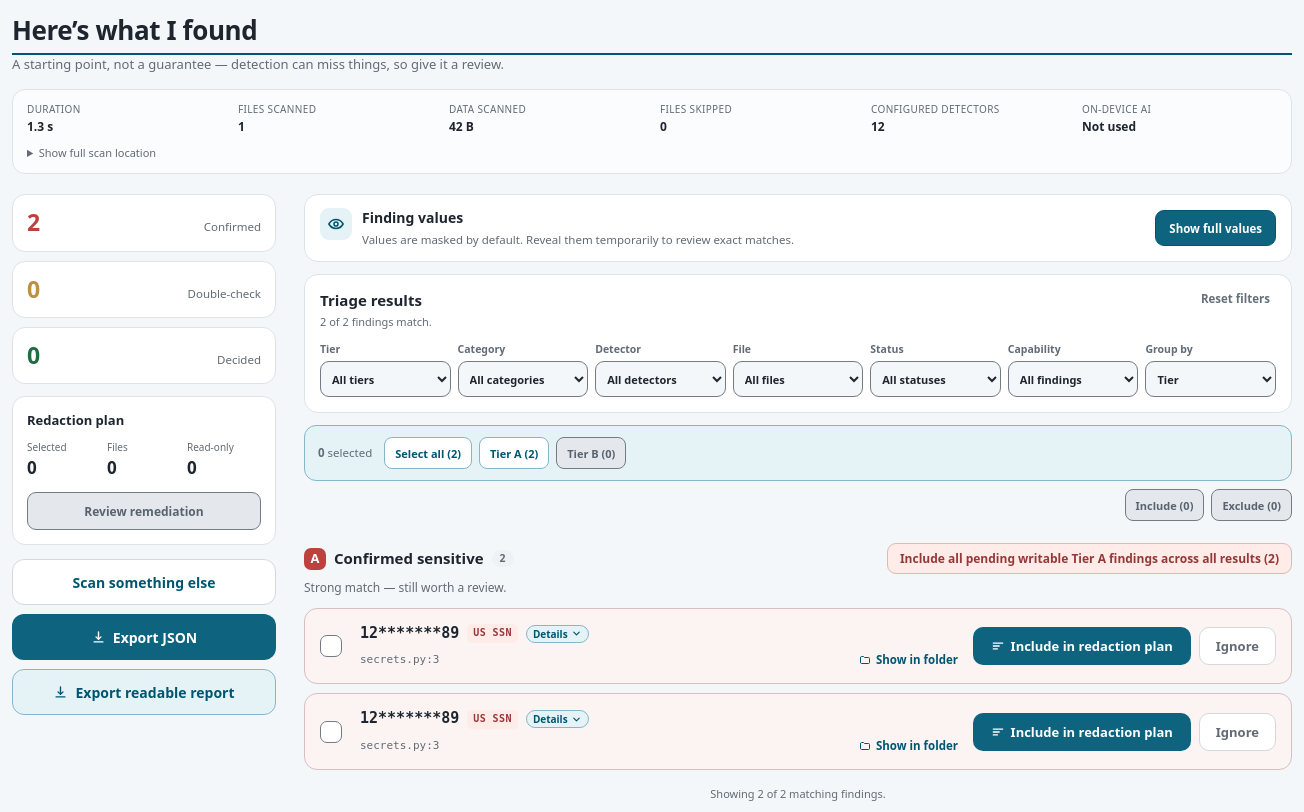
it: ResultsScreen › resets active triage filters with user-facing selection language
Select "Credentials" in the dropdown labelled "Category" at coordinates (523, 379), box [458,361,588,397]
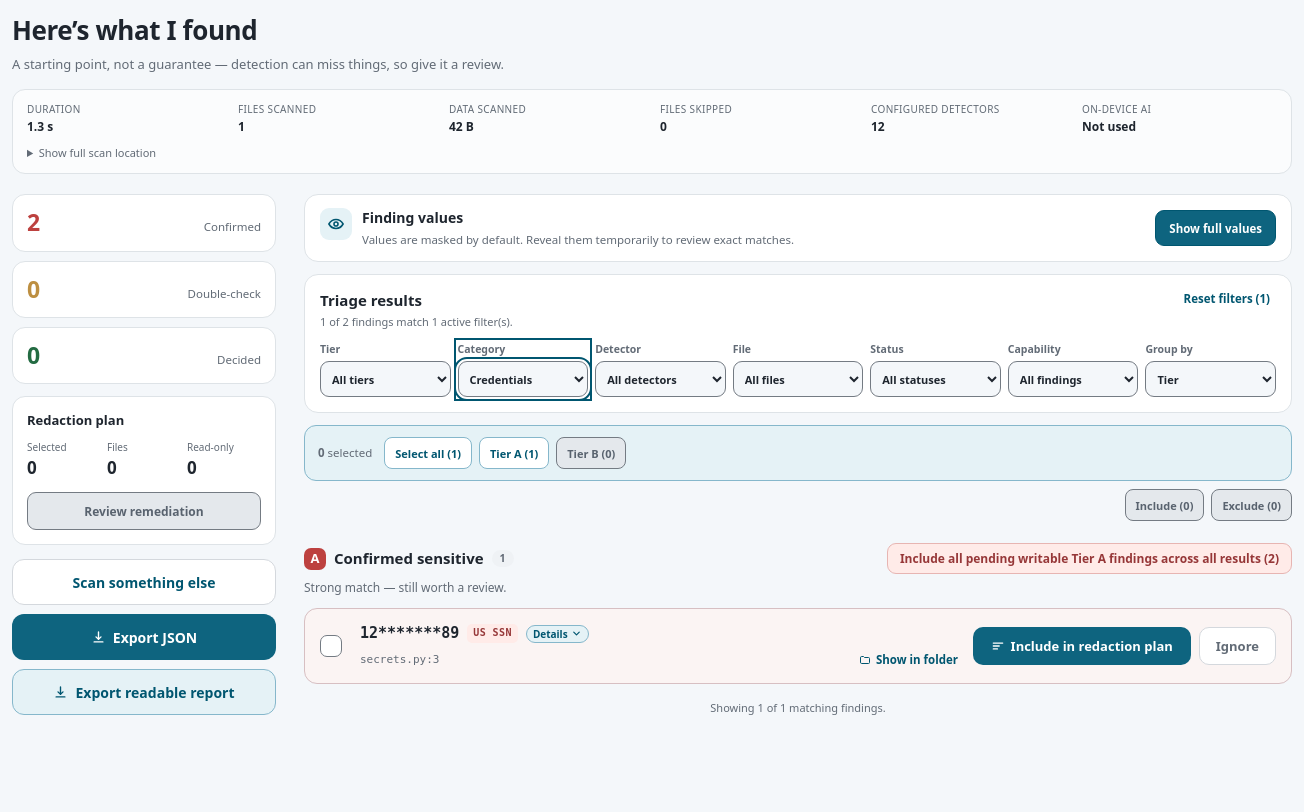
Check: the button "Reset filters (1)" is enabled
Click the button "Reset filters (1)" at coordinates (1227, 299), box [1178,290,1276,307]
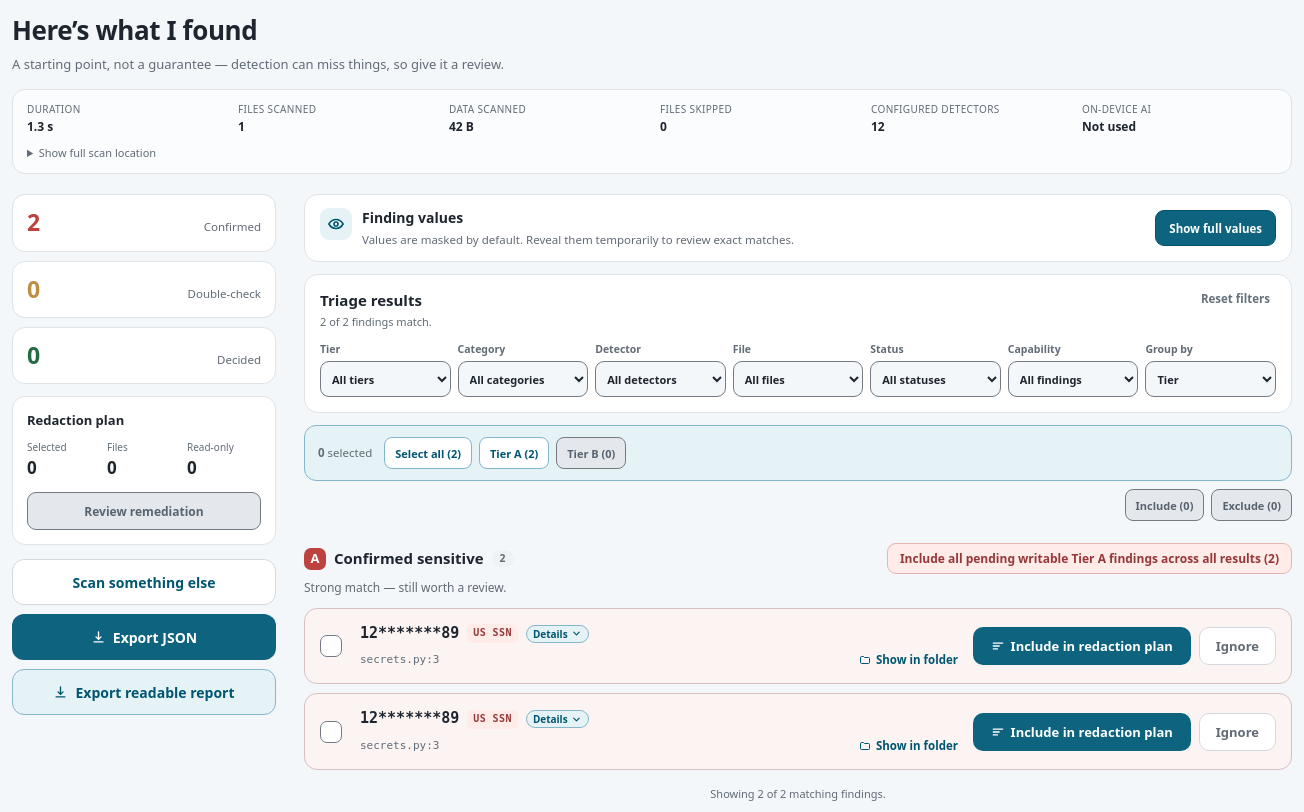
Check: the button "Reset filters" is disabled, box [1195,290,1276,307]
